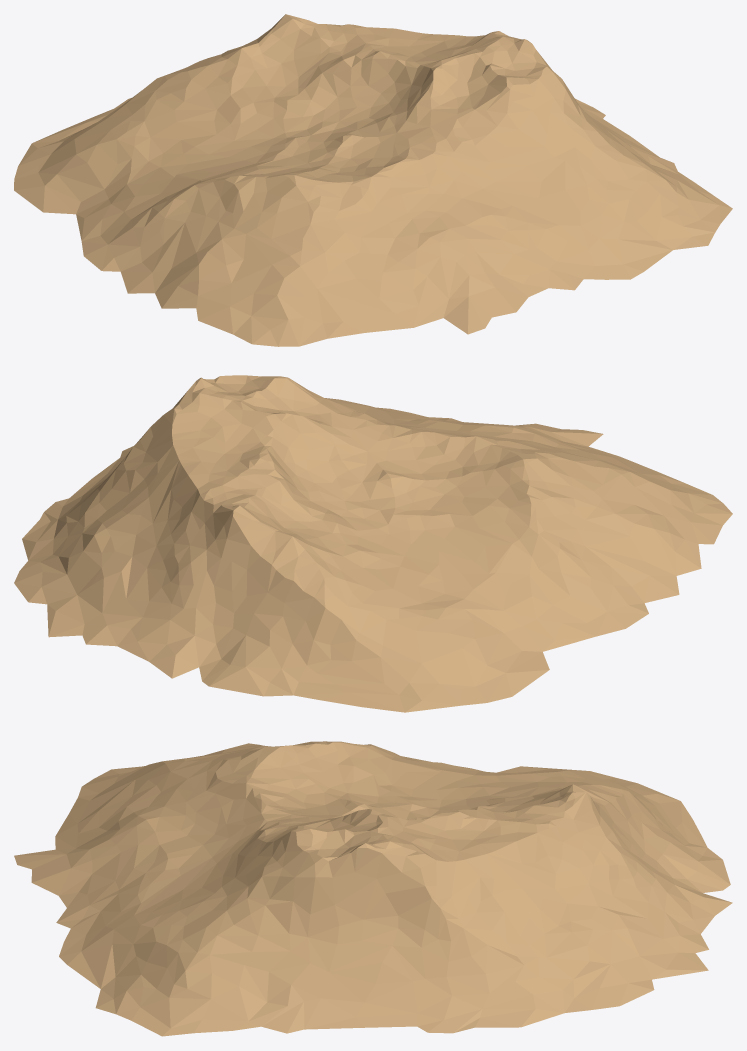
Rendered from MT_Mountain_L_d_01.fbx.
The picture shows the model from 3 angles, top to bottom: view 1: azimuth 30°, elevation 25°; view 2: azimuth 150°, elevation 25°; view 3: azimuth 270°, elevation 25°; orthographic projection. The views are drawn at different scales.
Visible parts, largest first — view 1: MT_Mountain_L_d_01; view 2: MT_Mountain_L_d_01; view 3: MT_Mountain_L_d_01.
Part boxes in pixels (<box>): MT_Mountain_L_d_01: <box>14,14,732,346</box>; MT_Mountain_L_d_01: <box>14,375,732,712</box>; MT_Mountain_L_d_01: <box>14,741,732,1036</box>.
Size of the model in its own units: 8491 by 1953 by 9187.
